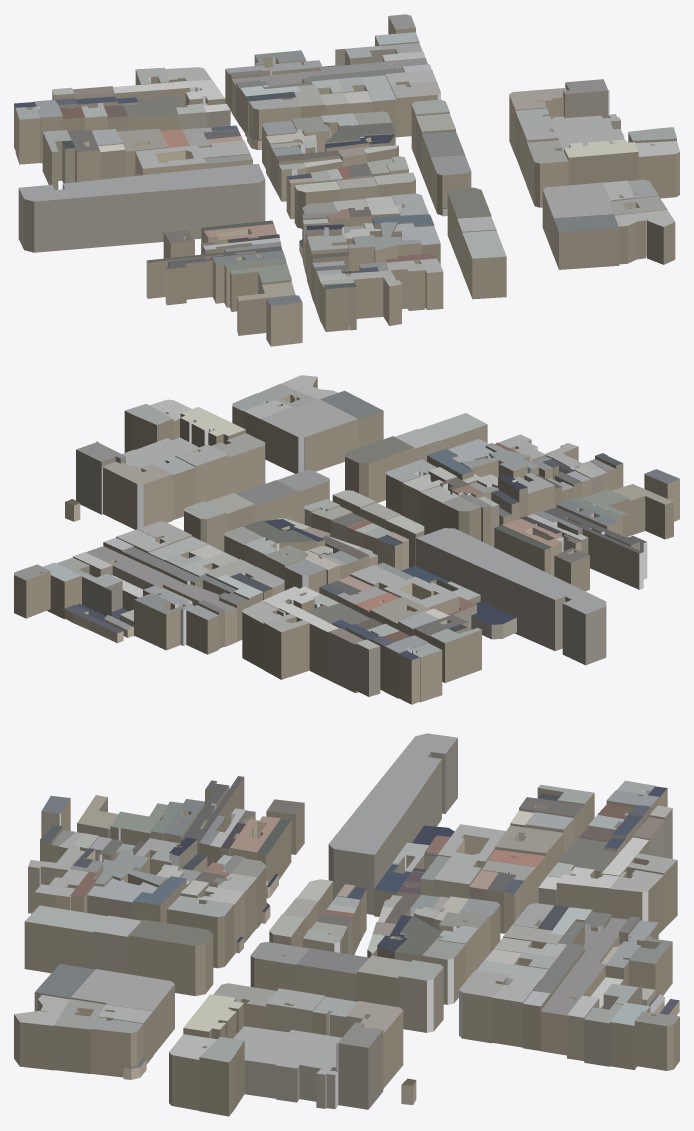
The picture shows the model from 3 angles, top to bottom: view 1: azimuth 30°, elevation 25°; view 2: azimuth 150°, elevation 25°; view 3: azimuth 270°, elevation 25°; orthographic projection. The views are drawn at different scales.
Visible parts, largest first — view 1: tuile; view 2: tuile; view 3: tuile.
Boxes of the visible parts, x1,y1,x2,y2 form: tuile: [14, 14, 679, 346]; tuile: [14, 375, 679, 704]; tuile: [14, 733, 679, 1116].
Size of the model in its own units: 309 by 29.24 by 268.
